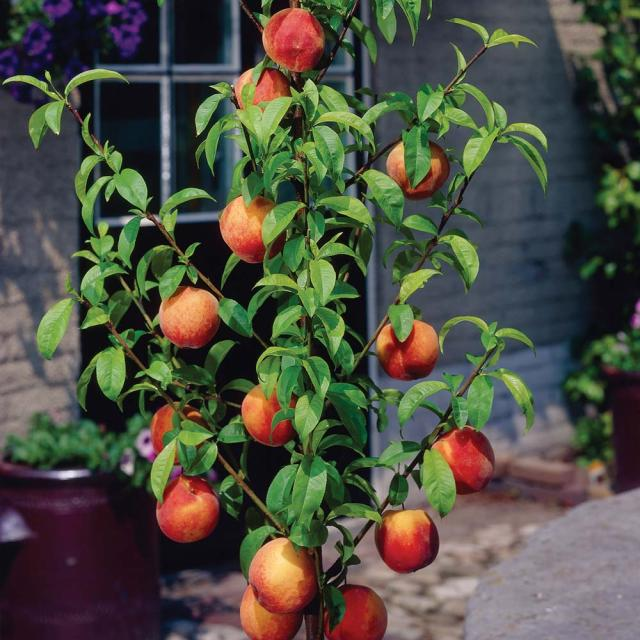peach: (9, 4, 532, 640)
